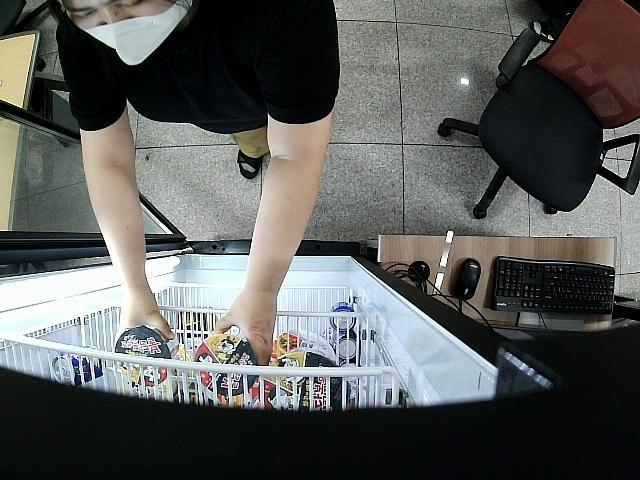08_buldak_S: (114, 327, 180, 388), (193, 335, 258, 394)
